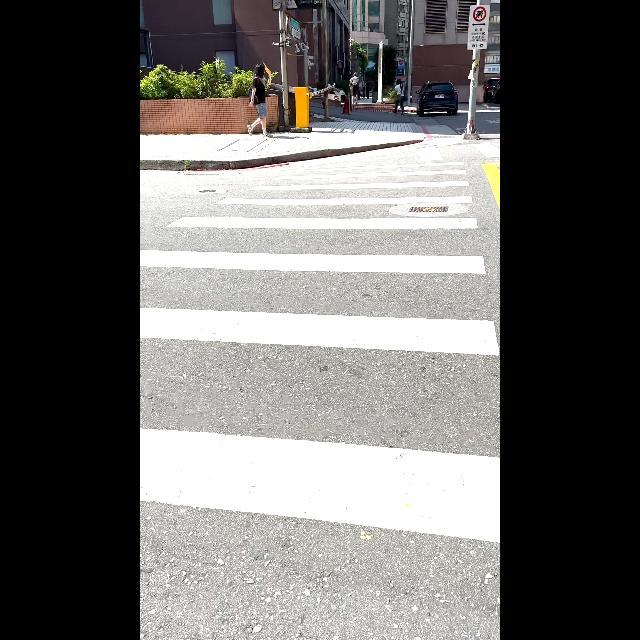sidewalk: (140, 135, 494, 639)
